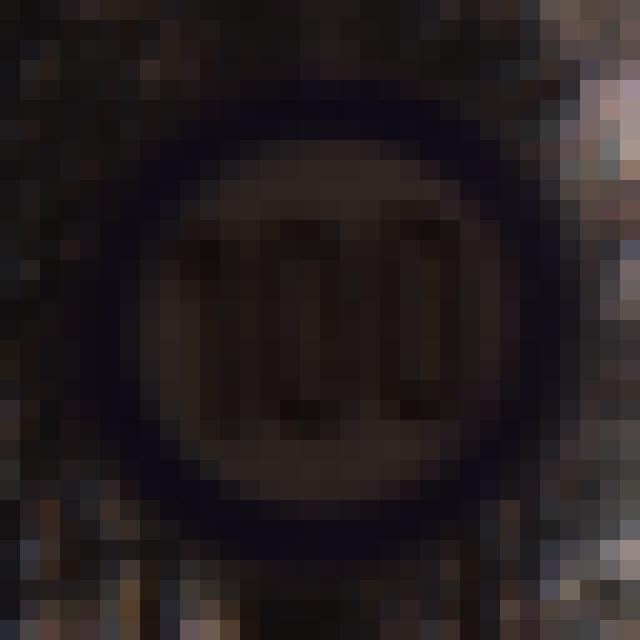SPEED LIMIT 100: (96, 123, 580, 544)
